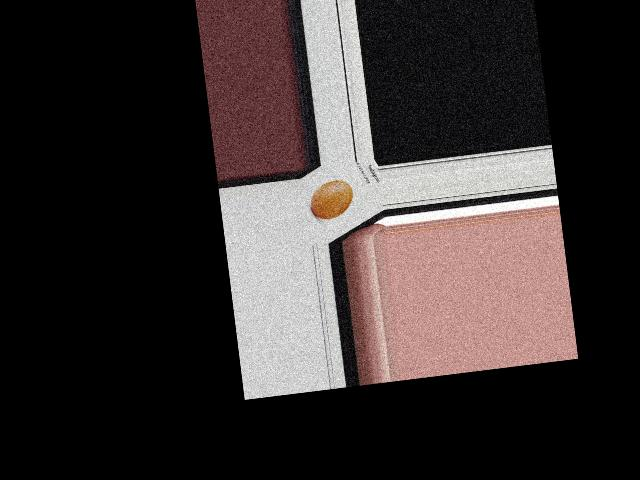egg: (308, 179, 355, 221)
